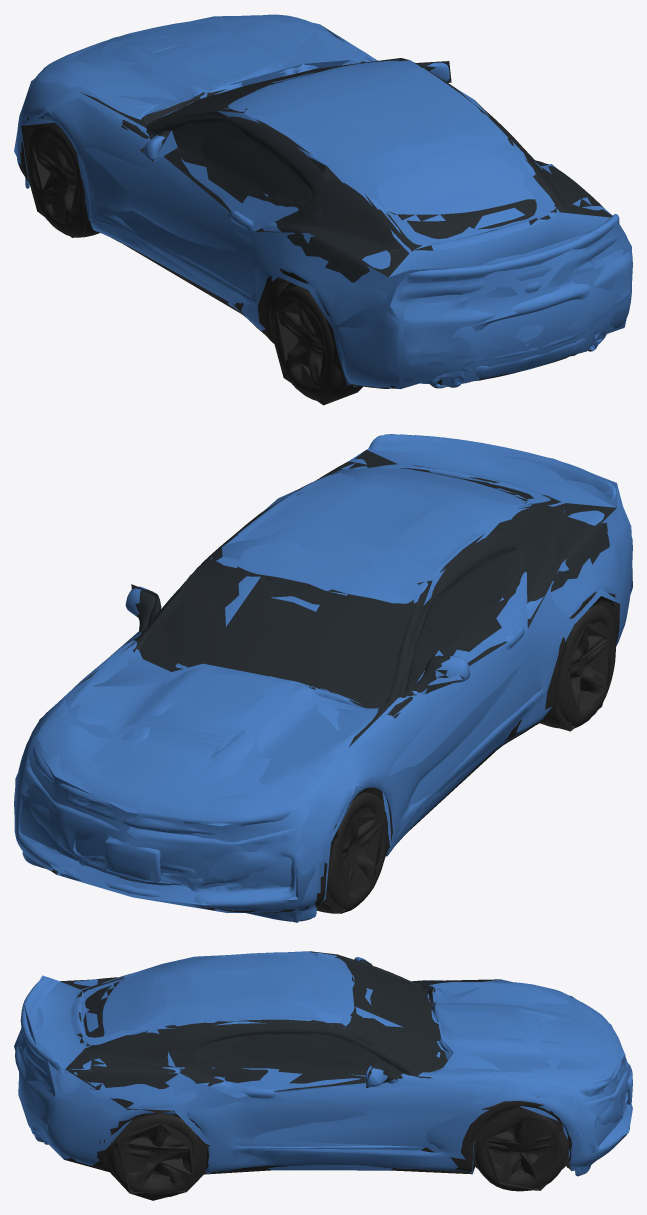
File: chevrolet-camaro.glb
3 views of the same model, one above another, from view 1: azimuth 30°, elevation 25°; view 2: azimuth 150°, elevation 25°; view 3: azimuth 270°, elevation 25° (orthographic). The views are drawn at different scales.
Parts seen in each view (by area): view 1: body, far; view 2: body, far; view 3: body, far.
Part boxes in pixels (x1,y1,x2,y2): body: (16,14,632,400); far: (14,15,631,405); body: (14,434,632,921); far: (14,436,632,922); body: (15,952,632,1197); far: (14,951,632,1200).
Bounding box in the file's own units: 2.2 × 1.42 × 4.82.
